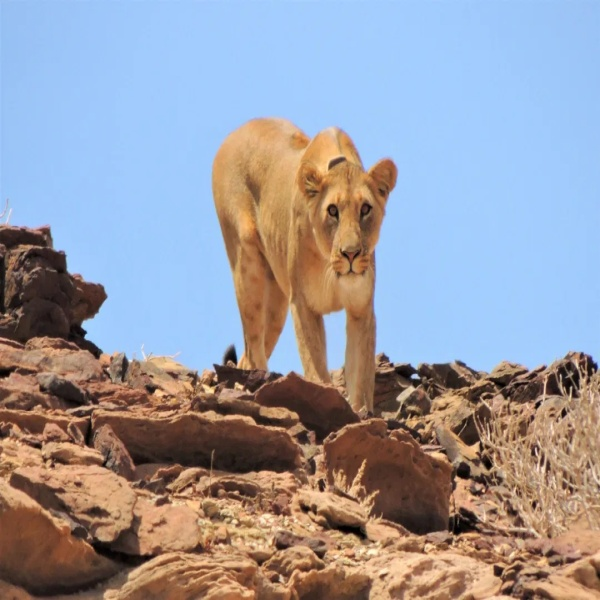Lion: (208, 111, 405, 425)
